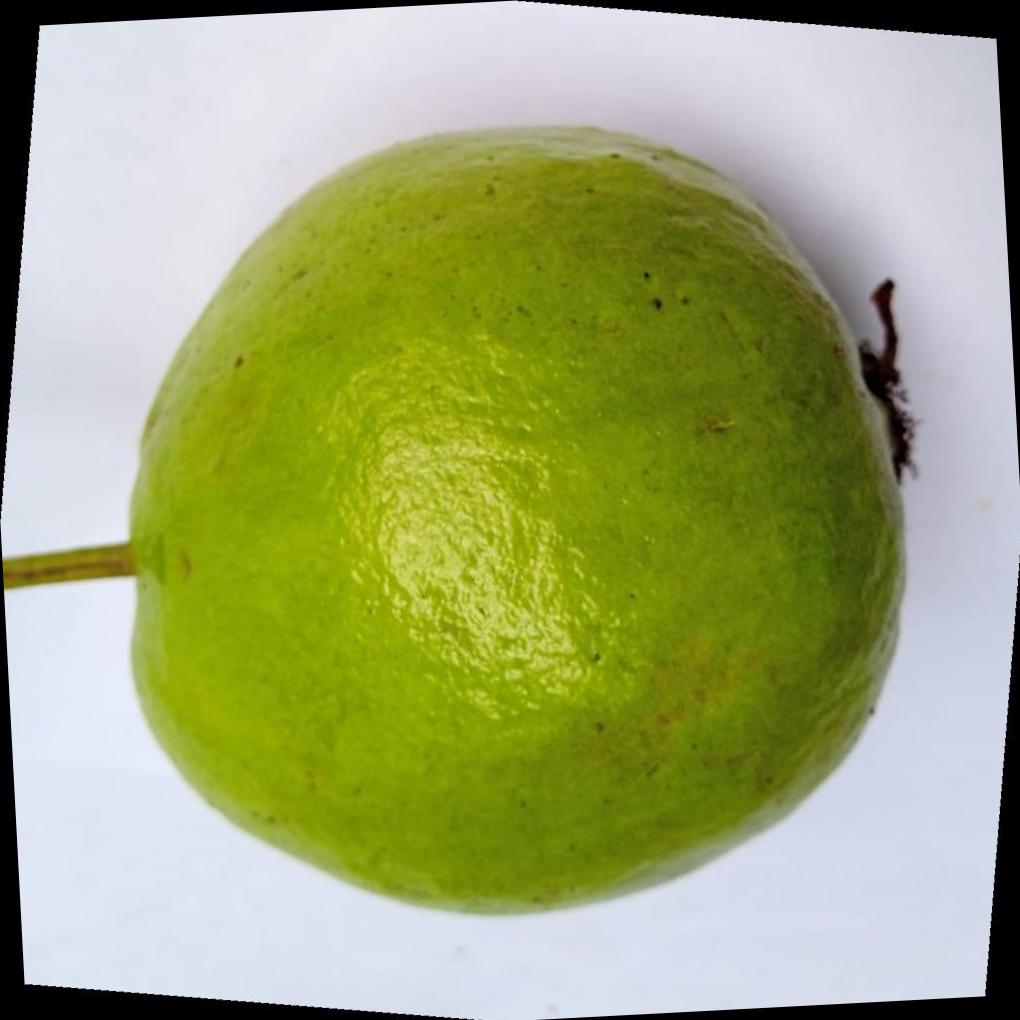FreshGuava: (78, 121, 910, 920)
